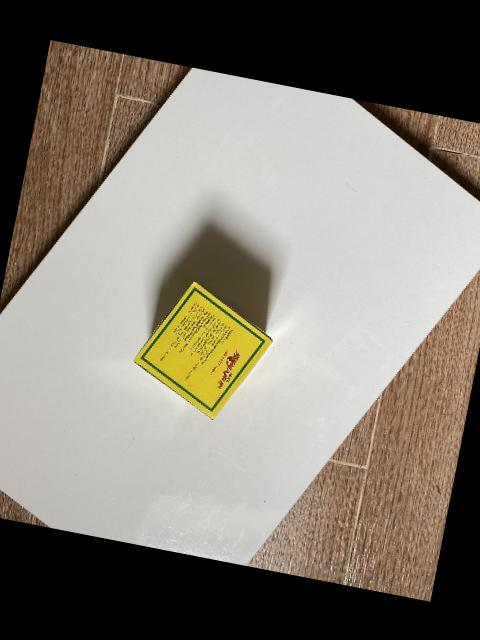luong_kho: (134, 279, 273, 418)
